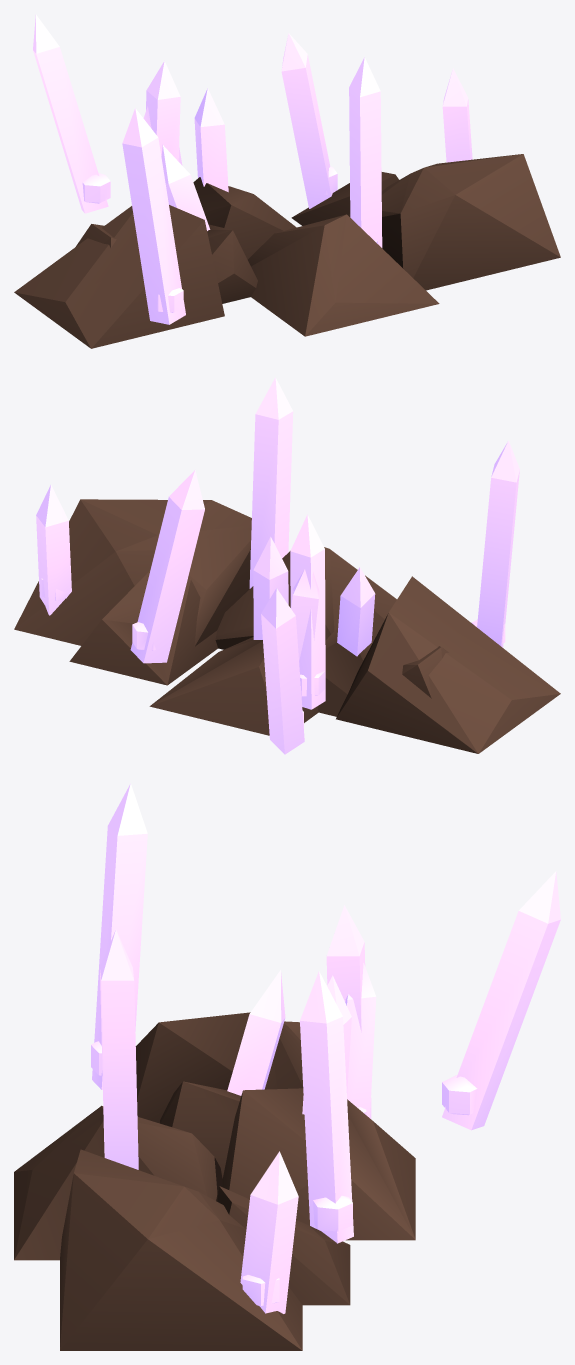
File: fragments.glb
3 views of the same model, one above another, from view 1: azimuth 30°, elevation 25°; view 2: azimuth 150°, elevation 25°; view 3: azimuth 270°, elevation 25° (orthographic). The views are drawn at different scales.
Parts seen in each view (by area): view 1: Base, Lights; view 2: Base, Lights; view 3: Base, Lights.
Part boxes in pixels (x1=…): Base: x1=14, y1=14, x2=560, y2=348; Lights: x1=82, y1=166, x2=377, y2=312; Base: x1=14, y1=377, x2=560, y2=754; Lights: x1=41, y1=578, x2=505, y2=728; Base: x1=14, y1=783, x2=560, y2=1350; Lights: x1=91, y1=1041, x2=477, y2=1306.
Size of the model in its own units: 1.41 by 0.689 by 1.11.
